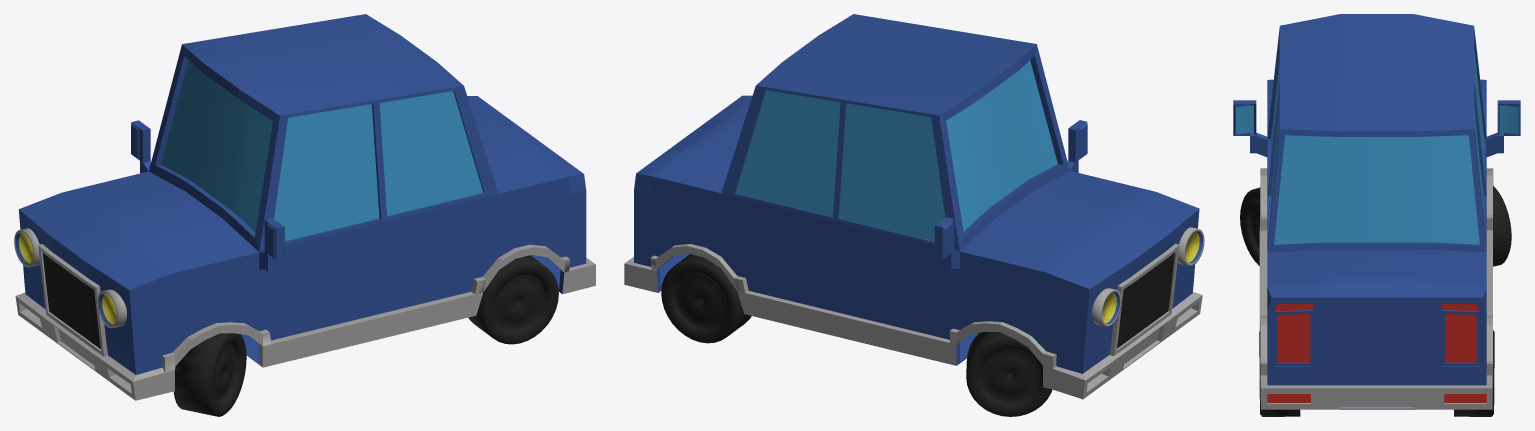
File: carro azul.fbx
The picture shows the model from 3 angles, left to right: view 1: azimuth 30°, elevation 25°; view 2: azimuth 150°, elevation 25°; view 3: azimuth 270°, elevation 25°; orthographic projection.
Visible parts, largest first — view 1: Cube, Cylinder_001, Cylinder; view 2: Cube, Cylinder_005, Cylinder_002; view 3: Cube, Cylinder, Cylinder_005, Cylinder_002, Cylinder_001.
Boxes of the visible parts, x1=… form: Cube: x1=14, y1=14, x2=595, y2=400; Cylinder_001: x1=468, y1=255, x2=558, y2=344; Cylinder: x1=173, y1=333, x2=246, y2=416; Cube: x1=624, y1=14, x2=1204, y2=399; Cylinder_005: x1=966, y1=331, x2=1052, y2=416; Cylinder_002: x1=661, y1=254, x2=751, y2=343; Cube: x1=1233, y1=14, x2=1520, y2=409; Cylinder: x1=1240, y1=187, x2=1260, y2=265; Cylinder_005: x1=1493, y1=186, x2=1511, y2=266; Cylinder_002: x1=1454, y1=330, x2=1494, y2=416; Cylinder_001: x1=1259, y1=331, x2=1300, y2=416.
Size of the model in its own units: 597 by 344 by 318.
